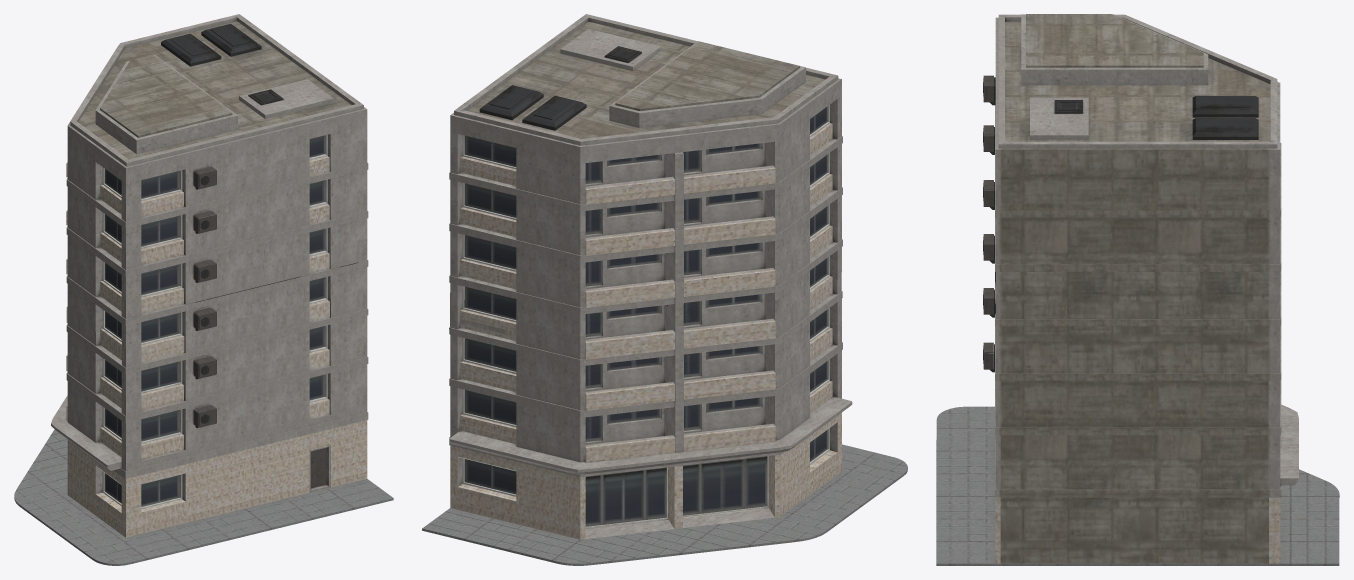
The model's file is bld22_12.glb.
3 renders of one model, left to right at view 1: azimuth 30°, elevation 25°; view 2: azimuth 150°, elevation 25°; view 3: azimuth 270°, elevation 25°, orthographic. The views are drawn at different scales.
Visible parts, largest first — view 1: bld22_12; view 2: bld22_12; view 3: bld22_12.
Boxes of the visible parts, x1,y1,x2,y2 form: bld22_12: (14, 14, 393, 565); bld22_12: (422, 14, 907, 565); bld22_12: (936, 14, 1339, 565).
Bounding box in the file's own units: 30.87 × 39.7 × 33.4.
1 material, 1 textured.
